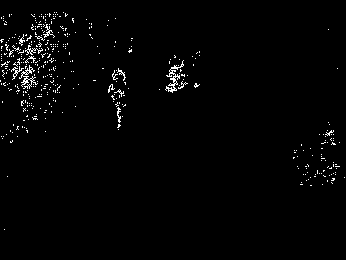person: (109, 68, 131, 132)
